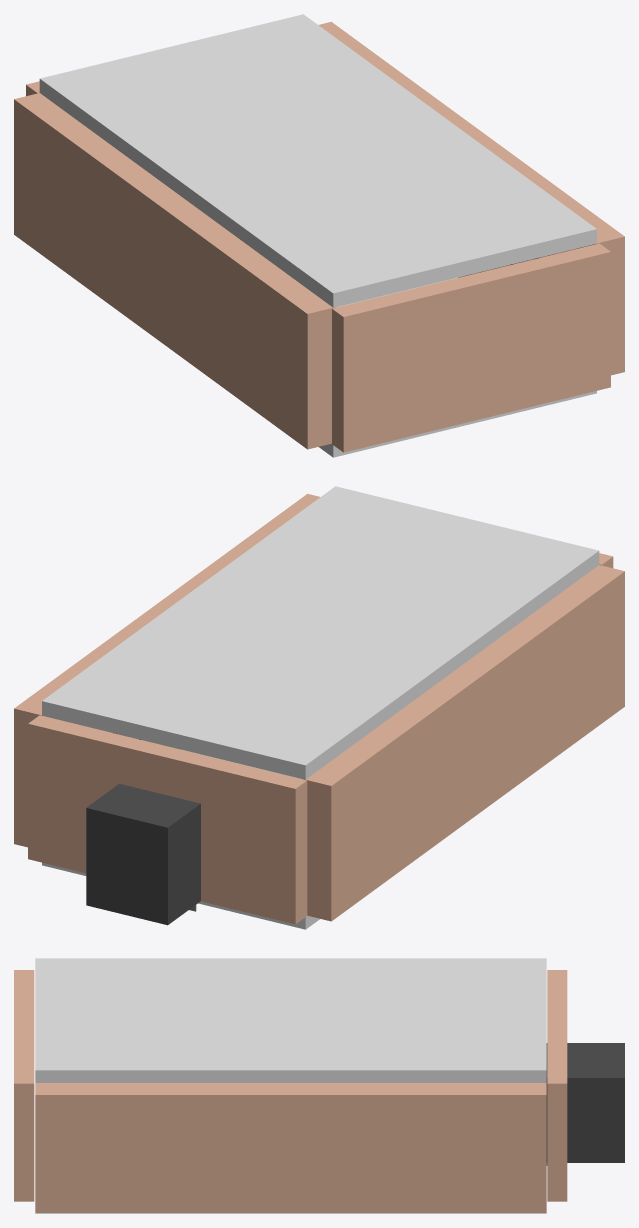
Rendered from hallway.glb.
The picture shows the model from 3 angles, top to bottom: view 1: azimuth 30°, elevation 25°; view 2: azimuth 150°, elevation 25°; view 3: azimuth 270°, elevation 25°; orthographic projection. The views are drawn at different scales.
Parts seen in each view (by area): view 1: Cube.005, Cube.001, Cube.004, Cube.002, Cube; view 2: Cube.005, Cube.001, Cube.003, Cube.006, Cube.002, Cube; view 3: Cube.002, Cube.005, Cube.006, Cube.003, Cube.004, Cube.
Boxes of the visible parts, x1,y1,x2,y2 form: Cube.005: (39, 14, 596, 307); Cube.001: (14, 93, 335, 449); Cube.004: (332, 243, 610, 452); Cube.002: (318, 21, 624, 375); Cube: (319, 277, 596, 457); Cube.005: (42, 486, 599, 779); Cube.001: (304, 565, 624, 921); Cube.003: (28, 715, 307, 924); Cube.006: (86, 783, 200, 925); Cube.002: (14, 493, 320, 847); Cube: (42, 749, 319, 929); Cube.002: (35, 1083, 546, 1212); Cube.005: (35, 958, 546, 1082); Cube.006: (546, 1043, 624, 1162); Cube.003: (547, 970, 567, 1201); Cube.004: (14, 970, 34, 1201); Cube: (35, 1213, 546, 1213).
Size of the model in its own units: 0.6469 by 0.3362 by 1.24.
